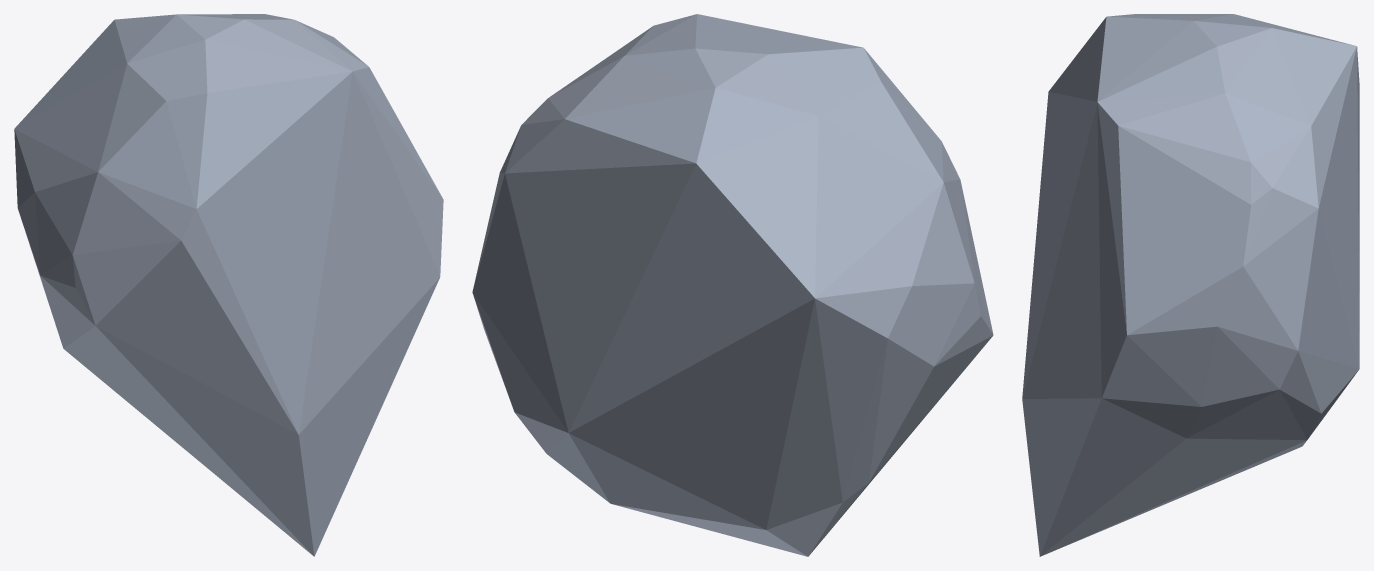
Rendered from kitchenware_kettle_t01.glb.
3 renders of one model, left to right at view 1: azimuth 30°, elevation 25°; view 2: azimuth 150°, elevation 25°; view 3: azimuth 270°, elevation 25°, orthographic. The views are drawn at different scales.
Visible parts, largest first — view 1: geometry_0; view 2: geometry_0; view 3: geometry_0.
Part boxes in pixels (x1,y1,x2,y2): geometry_0: (14, 14, 443, 556); geometry_0: (472, 14, 993, 556); geometry_0: (1022, 14, 1359, 556).
Size of the model in its own units: 0.3719 by 0.469 by 0.2779.
